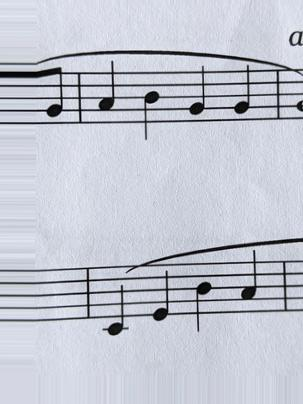A: (95, 58, 119, 127), (238, 249, 260, 318)
B: (138, 65, 163, 146), (190, 259, 214, 339)
E: (149, 261, 174, 329)
G: (230, 63, 254, 129), (187, 64, 208, 132)
LC: (99, 260, 133, 340)
